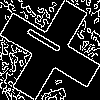I: (25, 25, 71, 60)
